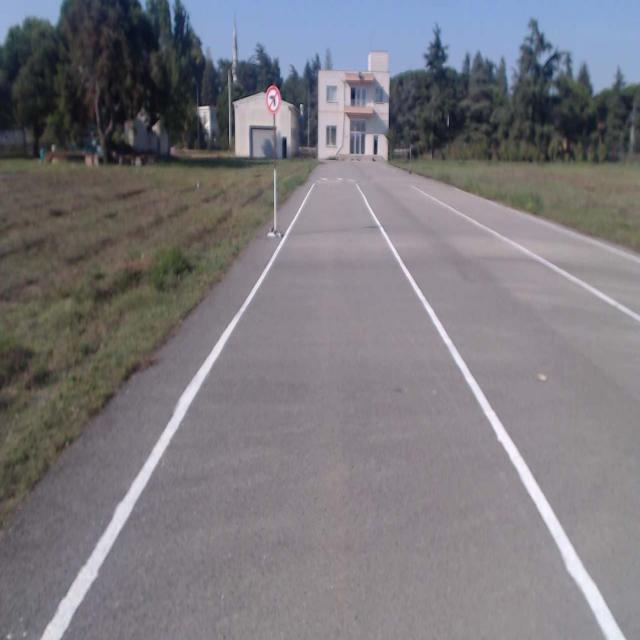soladonulmez: (266, 84, 280, 114)
